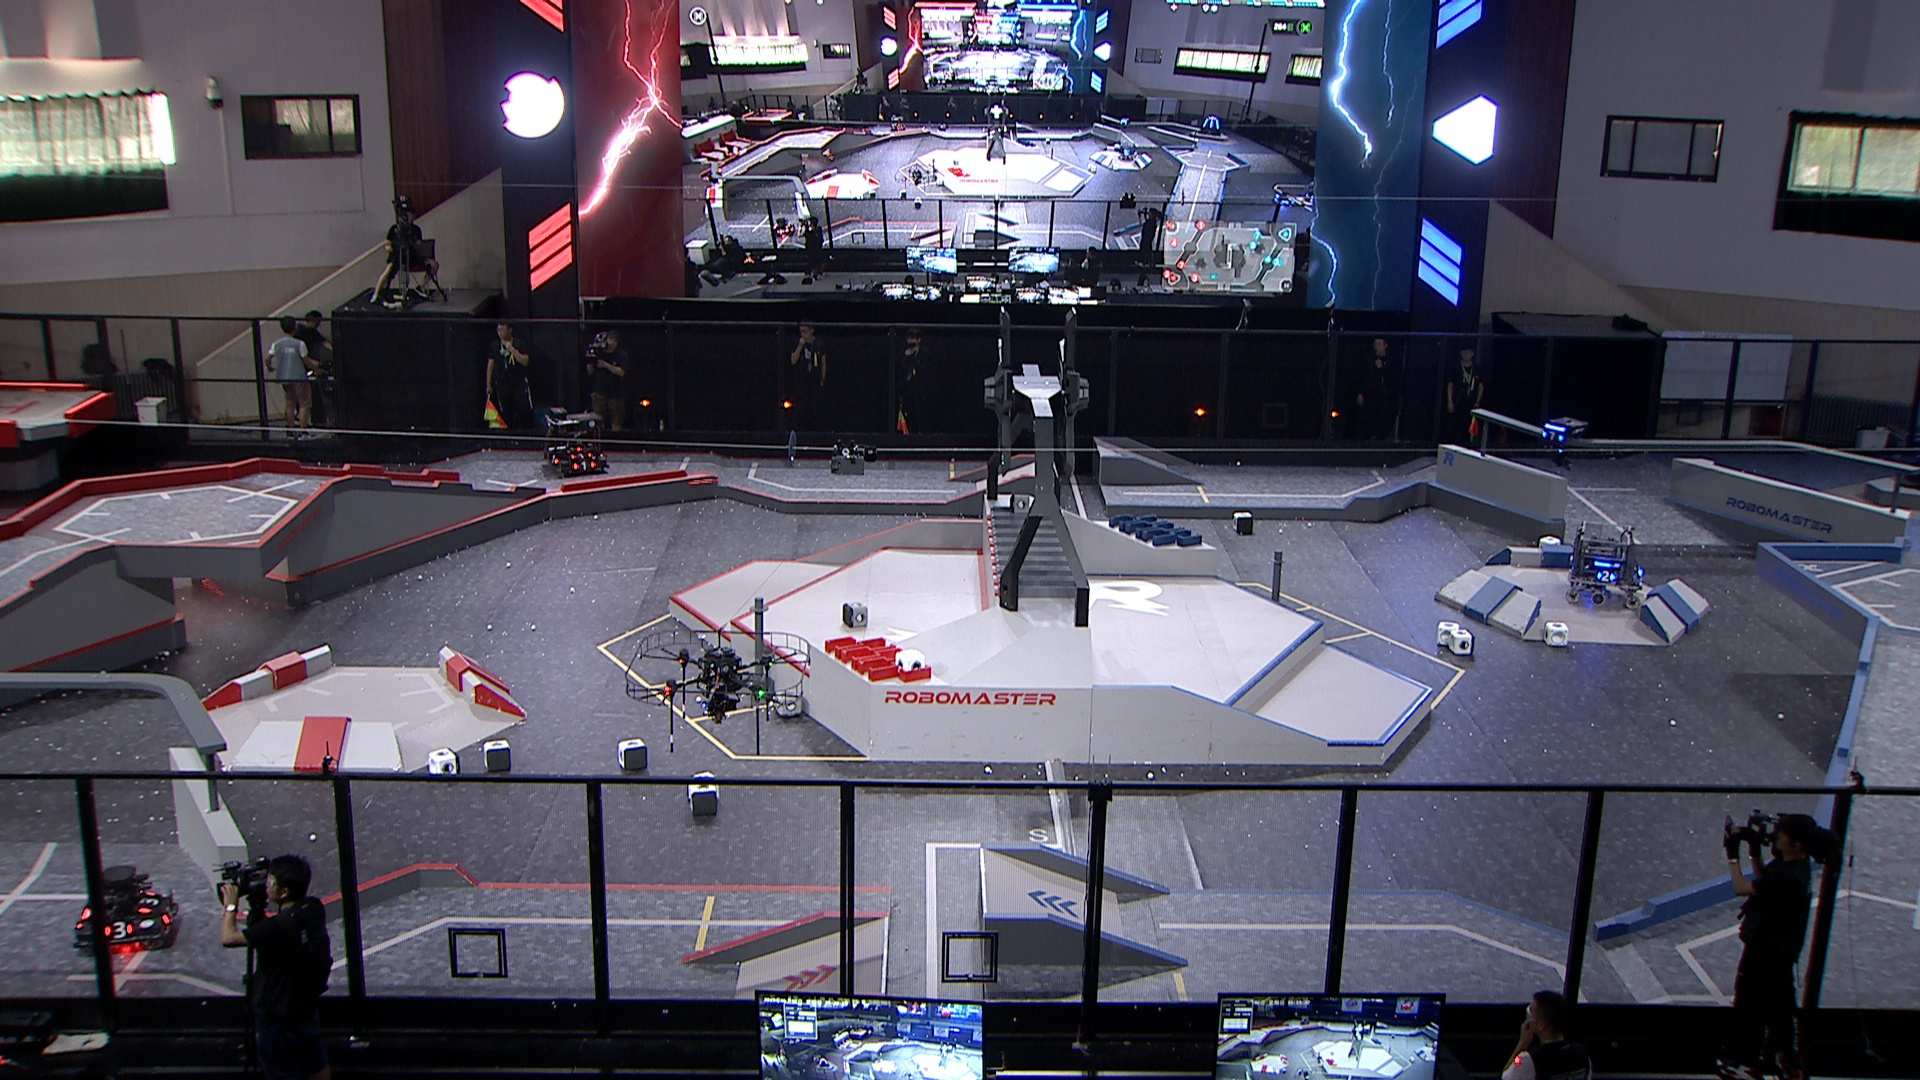armor: (103, 920, 136, 939), (135, 893, 161, 915), (1542, 429, 1567, 444), (160, 906, 178, 924), (1594, 570, 1618, 583), (568, 451, 593, 462), (574, 462, 597, 472), (550, 454, 560, 465)
car: (73, 860, 179, 953), (1567, 524, 1646, 607), (546, 404, 613, 477)
ignore: (773, 216, 798, 237), (1200, 115, 1222, 136), (1275, 190, 1298, 206), (1120, 144, 1139, 161), (707, 167, 723, 185), (887, 116, 906, 131), (1304, 183, 1316, 204), (1120, 117, 1131, 129)
watcher: (1542, 419, 1586, 469)
